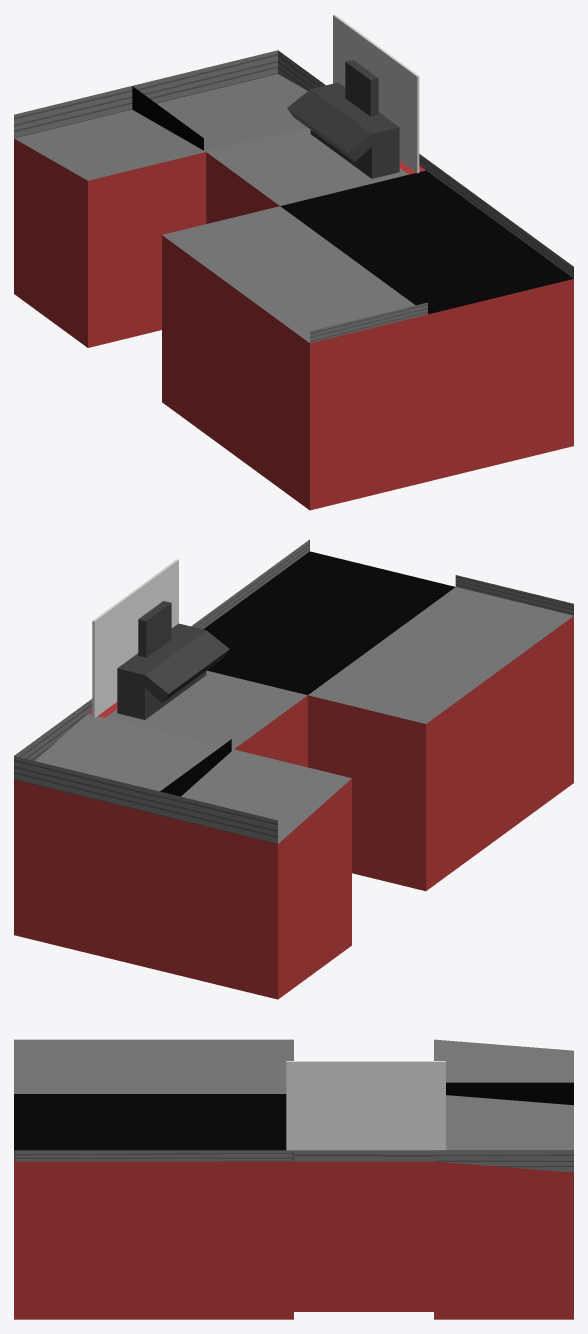
The model's file is CashRegisterUnity.fbx.
The picture shows the model from 3 angles, top to bottom: view 1: azimuth 30°, elevation 25°; view 2: azimuth 150°, elevation 25°; view 3: azimuth 270°, elevation 25°; orthographic projection. The views are drawn at different scales.
Visible parts, largest first — view 1: Cube; view 2: Cube; view 3: Cube.
Part boxes in pixels (bbox=[...]): Cube: bbox=[14, 14, 573, 510]; Cube: bbox=[14, 539, 573, 999]; Cube: bbox=[14, 1039, 573, 1319].
Size of the model in its own units: 362 by 350 by 702.
